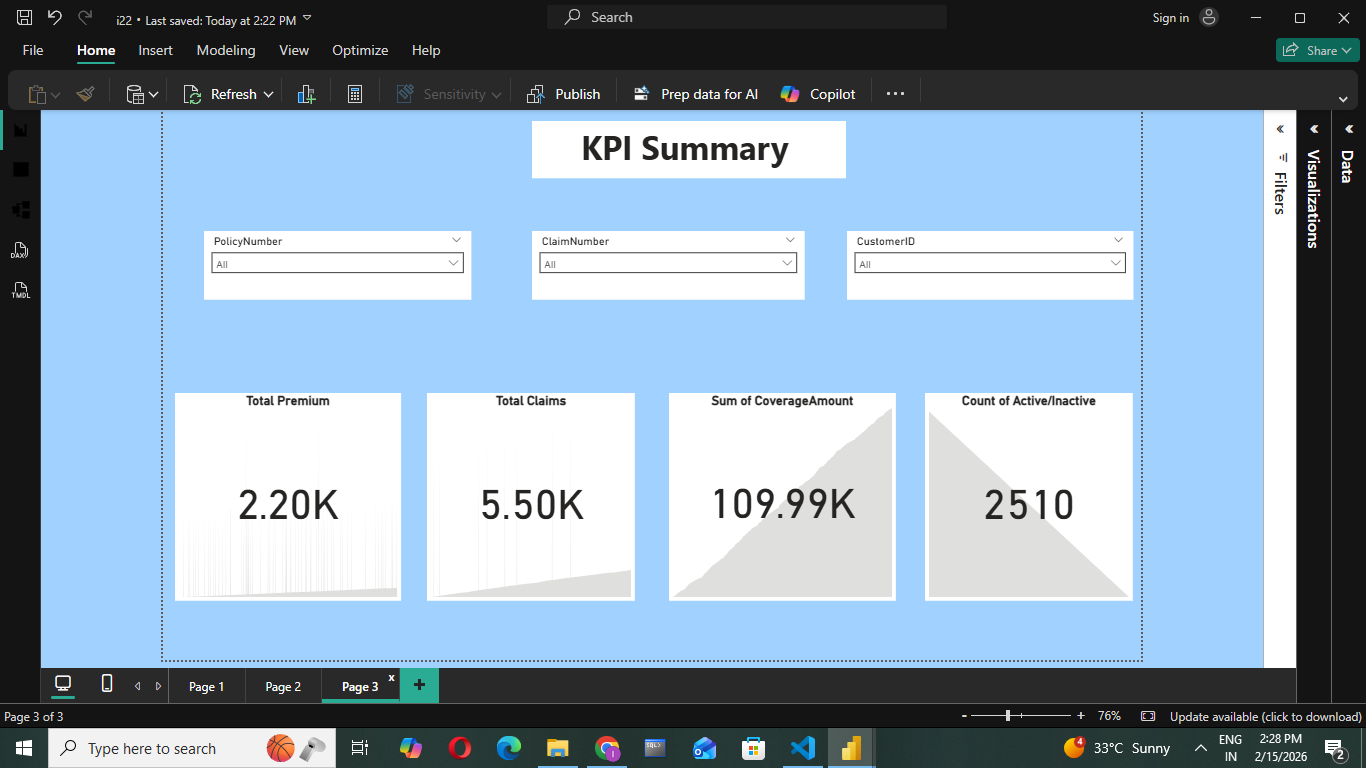

This screenshot's page, from the dashboard's own definition file:
{"tool":"powerbi","page":{"name":"Page 3","canvas":[1280,720],"ordinal":2},"visuals":[{"type":"kpi","title":"Total Premium ","fields":{"Indicator":["InsuranceData.Total Premium"],"TrendLine":["InsuranceData.PremiumAmount"]},"box":[0,370.3,296.8,283.6],"z":0},{"type":"slicer","fields":{"Values":["InsuranceData.PolicyNumber"]},"box":[60.2,158.7,349.7,89.6],"z":1000},{"type":"slicer","fields":{"Values":["InsuranceData.ClaimNumber"]},"box":[483.4,158.7,357.1,89.6],"z":2000},{"type":"slicer","fields":{"Values":["InsuranceData.CustomerID"]},"box":[894.9,158.7,374.7,89.6],"z":3000},{"type":"kpi","title":"Count of Active/Inactive ","fields":{"Indicator":["CountNonNull(InsuranceData.Active/Inactive)"],"TrendLine":["InsuranceData.Active/Inactive"]},"box":[975.7,370.3,271.8,271.8],"z":4000},{"type":"kpi","title":"Total Claims","fields":{"Indicator":["InsuranceData.Total Claims"],"TrendLine":["InsuranceData.ClaimAmount"]},"box":[320.3,370.3,274.8,277.7],"z":5000},{"type":"kpi","title":"Sum of CoverageAmount","fields":{"TrendLine":["InsuranceData.CoverageAmount"],"Indicator":["Sum(InsuranceData.CoverageAmount)"]},"box":[640.7,370.3,296.8,271.8],"z":6000},{"type":"textbox","box":[483.4,14.7,411.4,74.9],"z":6001}]}

Visuals, with their boxes on the page's 1280x720 design canvas (x1, y1, x2, y2). These are canvas units, not pixel positions in the 1366x768 screenshot, which may show the page scaled, cropped or inside an application window:
"Total Premium " kpi: (0,370,297,654)
slicer - InsuranceData.PolicyNumber: (60,159,410,248)
slicer - InsuranceData.ClaimNumber: (483,159,840,248)
slicer - InsuranceData.CustomerID: (895,159,1270,248)
"Count of Active/Inactive " kpi: (976,370,1248,642)
"Total Claims" kpi: (320,370,595,648)
"Sum of CoverageAmount" kpi: (641,370,938,642)
textbox: (483,15,895,90)
